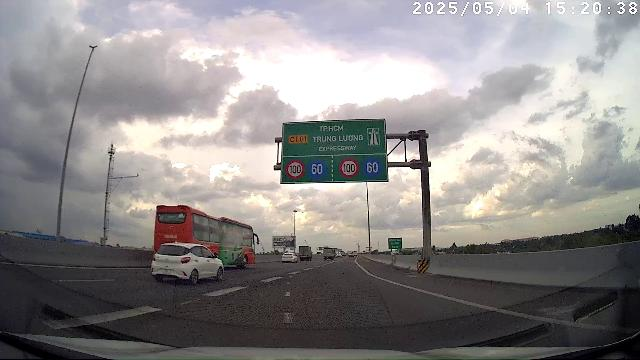127-toc-do-toi-da-100: (285, 159, 305, 179), (339, 158, 359, 178)
306-toc-do-toi-thieu-60: (307, 158, 327, 180), (362, 157, 382, 177)
437-bat-dau-duong-cao-toc: (366, 126, 382, 146)
